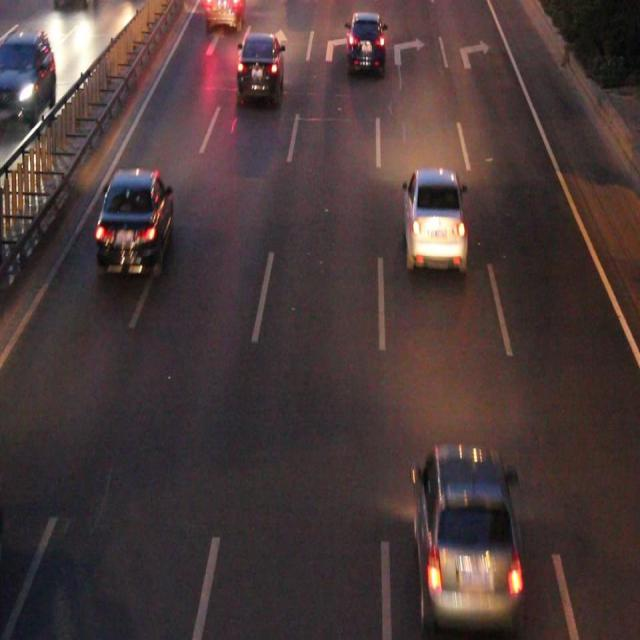car: (414, 449, 521, 608), (99, 172, 171, 271), (403, 171, 465, 266), (237, 35, 282, 97), (347, 16, 384, 68), (206, 1, 242, 27)
